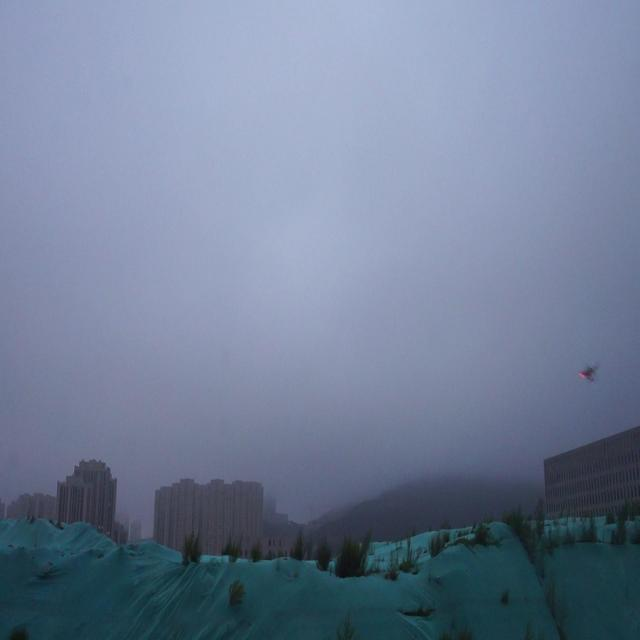UAV: (578, 365, 600, 382)
